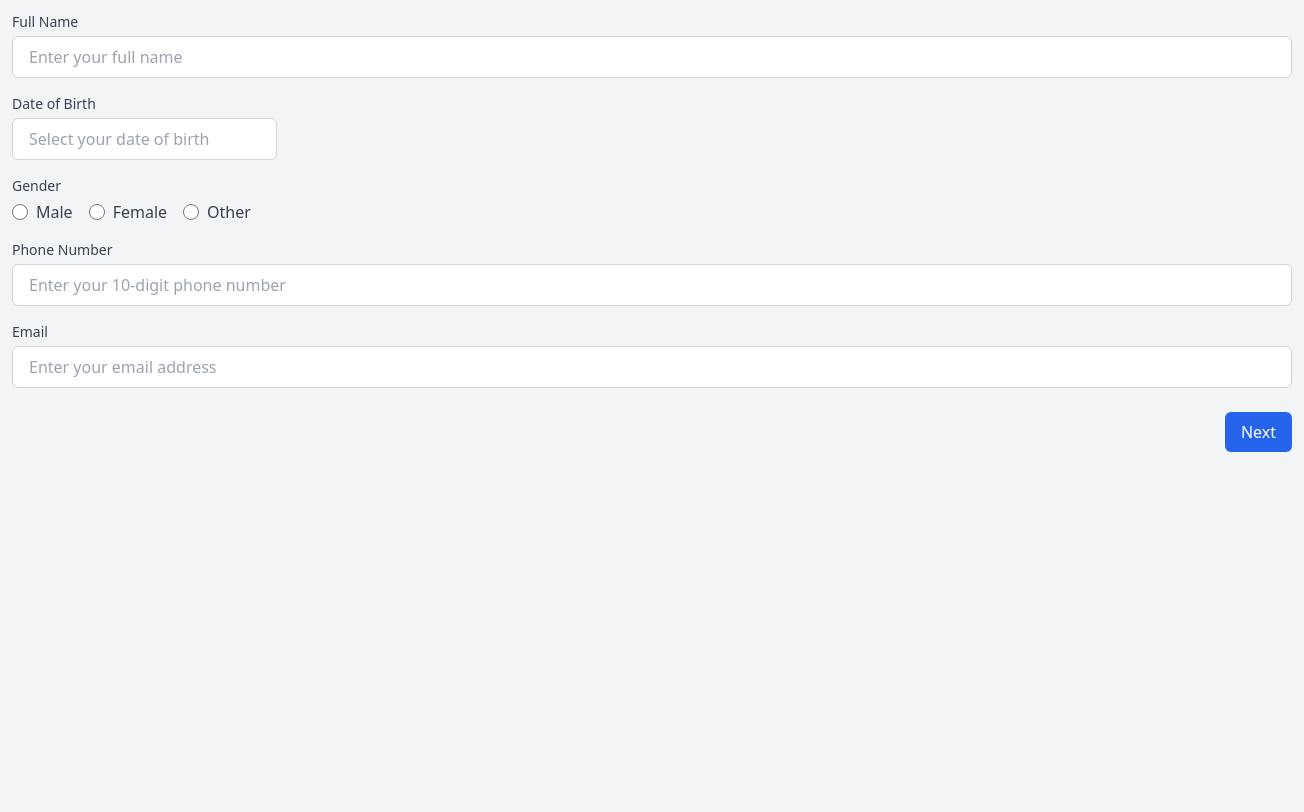
Scenario: PersonalDetailsForm › clicking Next on an empty form shows every missing field and focuses the first
The width and height of the screenshot is (1304, 812).
Click the button "Next" at {"x": 1258, "y": 432}, box [1225,412,1292,452]
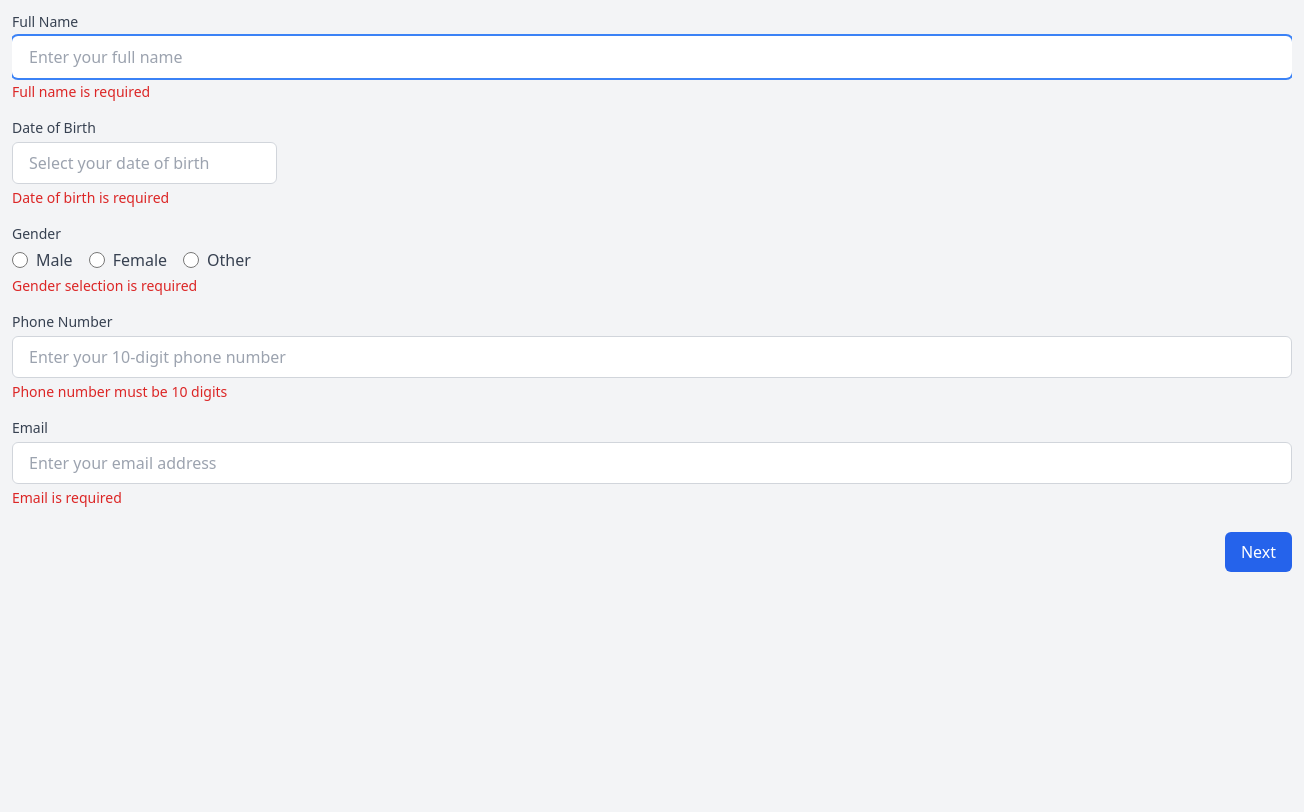
Result: the text "Full name is required" is shown at [12,82,150,101]
Result: the text "Date of birth is required" is shown at [12,188,169,207]
Result: the text "Gender selection is required" is shown at [12,276,197,295]
